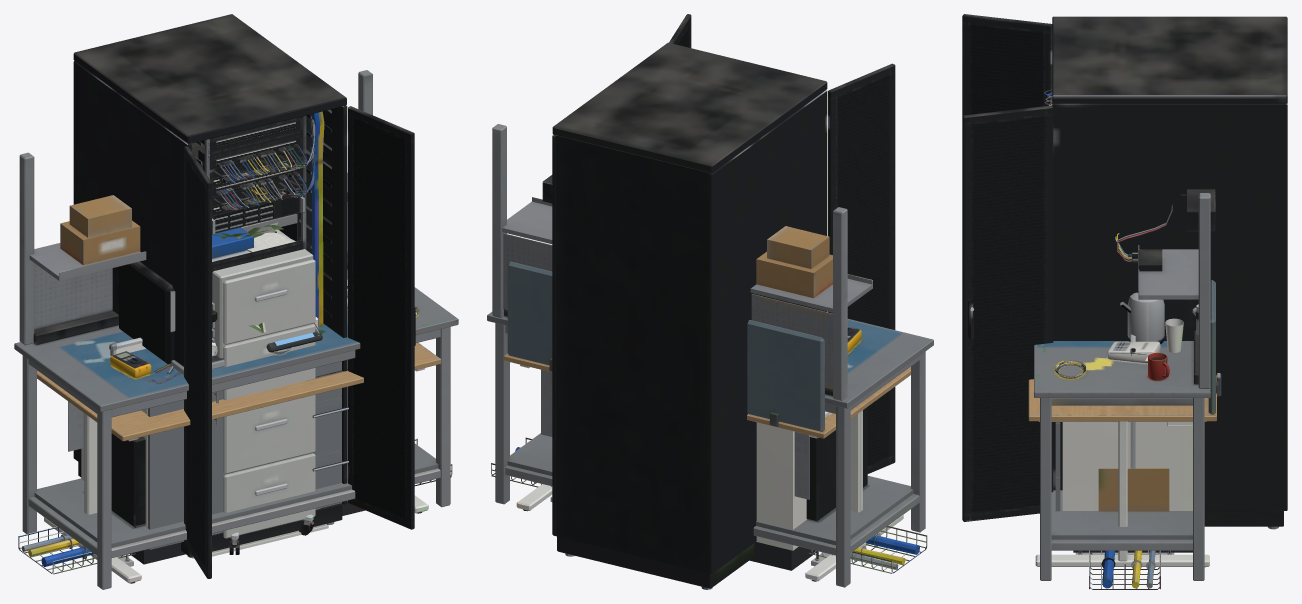
Rendered from office-props.glb.
The picture shows the model from 3 angles, left to right: view 1: azimuth 30°, elevation 25°; view 2: azimuth 150°, elevation 25°; view 3: azimuth 270°, elevation 25°; orthographic projection. The views are drawn at different scales.
Visible parts, largest first — view 1: rack_42u_mesh, it_bench_mesh, filing_cabinet_mesh, coffee_station_mesh, desk_pod_mesh, cable_tray_mesh, printer_mesh; view 2: rack_42u_mesh, it_bench_mesh, desk_pod_mesh, coffee_station_mesh, cable_tray_mesh; view 3: rack_42u_mesh, it_bench_mesh, coffee_station_mesh, desk_pod_mesh, cable_tray_mesh.
Part boxes in pixels (x1,y1,x2,y2): rack_42u_mesh: [73, 14, 416, 578]; it_bench_mesh: [14, 70, 458, 589]; filing_cabinet_mesh: [212, 227, 315, 538]; coffee_station_mesh: [81, 261, 365, 564]; desk_pod_mesh: [37, 342, 441, 583]; cable_tray_mesh: [18, 438, 452, 574]; printer_mesh: [212, 317, 322, 534]; rack_42u_mesh: [552, 14, 895, 589]; it_bench_mesh: [487, 124, 933, 587]; desk_pod_mesh: [504, 261, 910, 581]; coffee_station_mesh: [749, 296, 818, 570]; cable_tray_mesh: [491, 437, 927, 573]; rack_42u_mesh: [962, 14, 1287, 529]; it_bench_mesh: [1034, 189, 1215, 580]; coffee_station_mesh: [1055, 292, 1192, 552]; desk_pod_mesh: [1028, 280, 1221, 567]; cable_tray_mesh: [1075, 550, 1174, 589].
Bounding box in the file's own units: 2.01 × 2.05 × 1.38.
6 materials, 2 textured.
